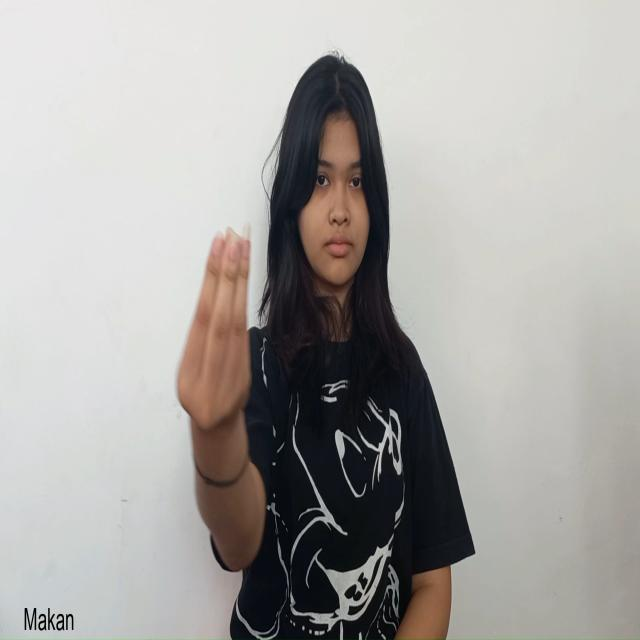Makan -BISINDO-: (175, 222, 251, 453)
